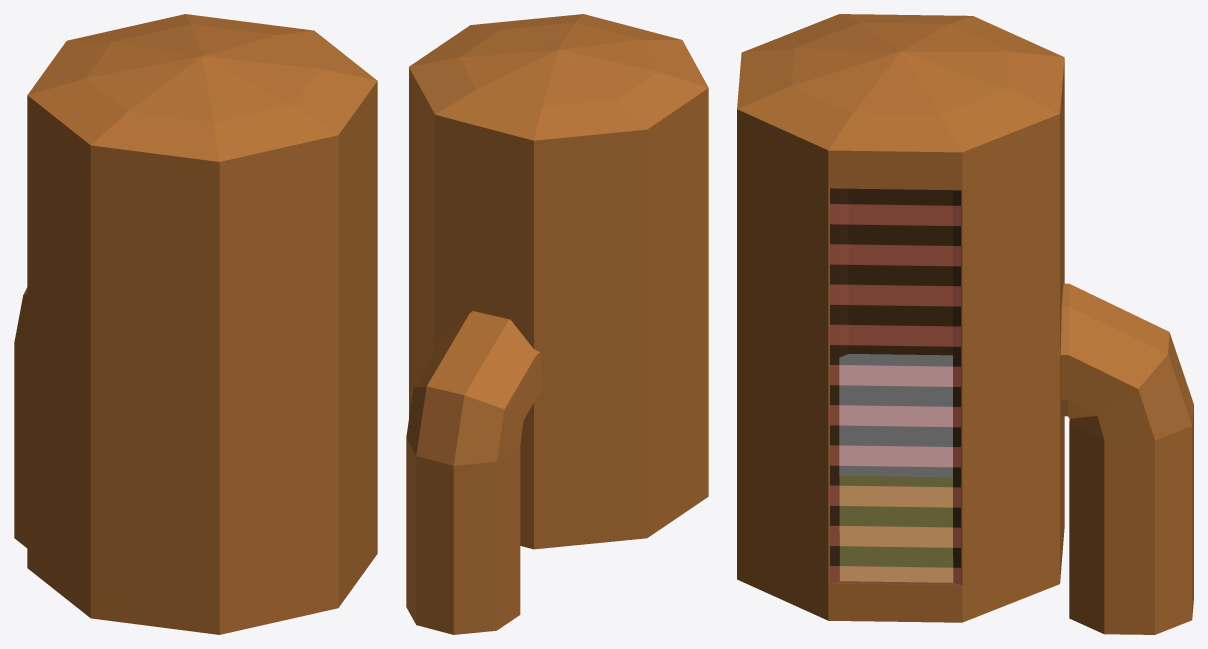
Rendered from VAT50.glb.
3 renders of one model, left to right at view 1: azimuth 30°, elevation 25°; view 2: azimuth 150°, elevation 25°; view 3: azimuth 270°, elevation 25°, orthographic. The views are drawn at different scales.
Visible parts, largest first — view 1: Cylinder, Cylinder.001; view 2: Cylinder, Cylinder.001; view 3: Cylinder, glass, Cylinder.001, liquidHeight.
Boxes of the visible parts, bbox=[...] form: Cylinder: bbox=[27, 14, 377, 634]; Cylinder.001: bbox=[14, 287, 27, 547]; Cylinder: bbox=[409, 14, 708, 549]; Cylinder.001: bbox=[406, 311, 541, 634]; Cylinder: bbox=[737, 14, 1064, 622]; glass: bbox=[830, 188, 960, 584]; Cylinder.001: bbox=[1060, 283, 1193, 634]; liquidHeight: bbox=[839, 354, 952, 582].
Size of the model in its own units: 1.82 by 3.44 by 2.54.
Materials: 4 (1 with a texture image).
